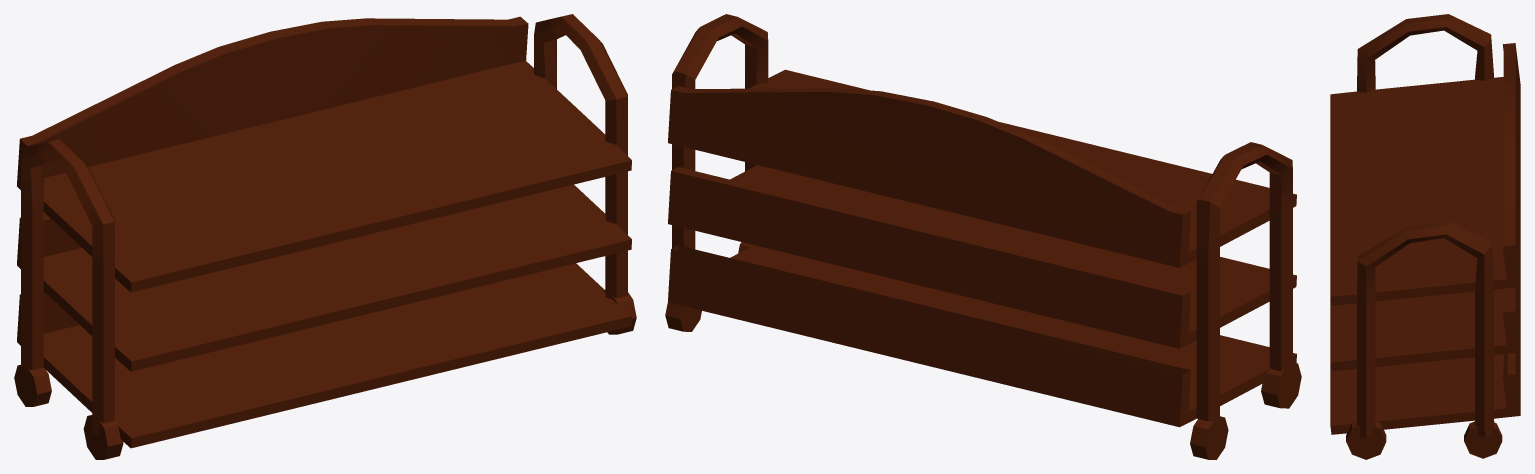
File: roll_Bookshelf.glb
3 views of the same model, side by side, from view 1: azimuth 30°, elevation 25°; view 2: azimuth 150°, elevation 25°; view 3: azimuth 270°, elevation 25° (orthographic). The views are drawn at different scales.
Visible parts, largest first — view 1: Cube.032; view 2: Cube.032; view 3: Cube.032.
Part boxes in pixels (x1,y1,x2,y2): Cube.032: (14,14,636,459); Cube.032: (665,14,1301,459); Cube.032: (1330,14,1520,459).
Bounding box in the file's own units: 4.51 × 2.4 × 1.67.
